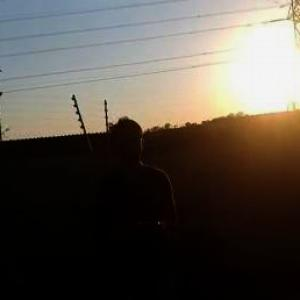follow: (91, 110, 188, 299)
